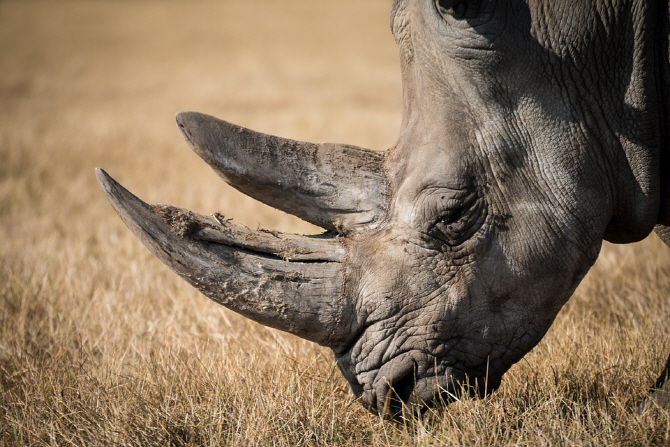Rhinoceros: (88, 5, 664, 433)
